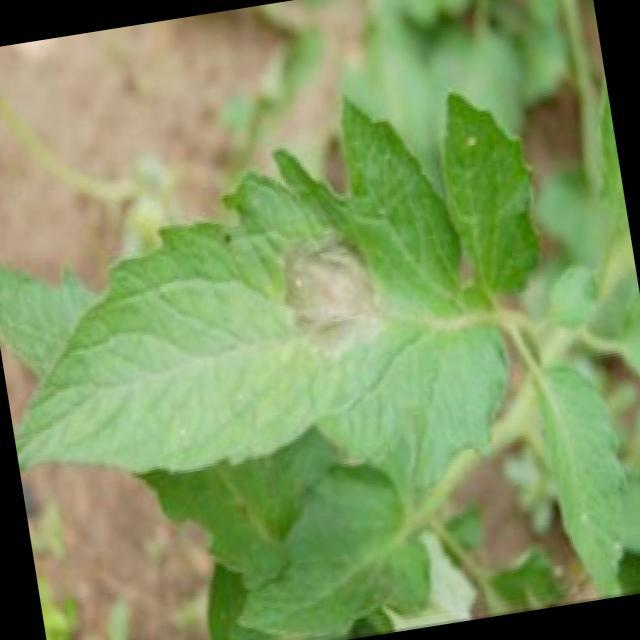Tomato healthy leaf: (214, 453, 440, 640), (533, 354, 640, 604), (432, 83, 552, 302)
Tomato late blight leaf: (0, 69, 542, 557)
